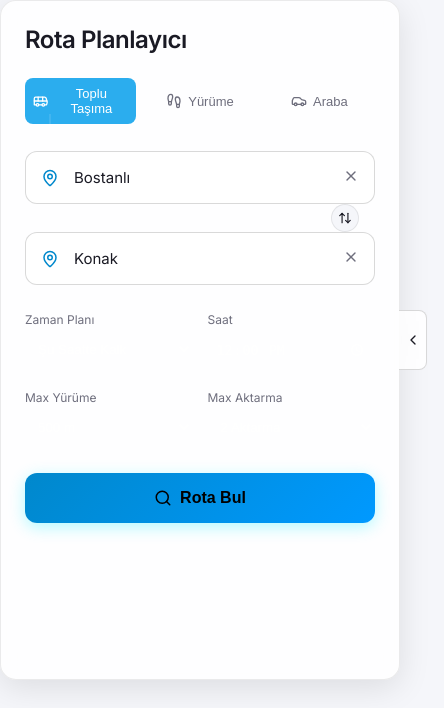
Test: TripPlanner Component › shows error message when API returns an error
The width and height of the screenshot is (444, 708).
Click the button "Rota Bul": (200, 498) [25, 473, 375, 523]
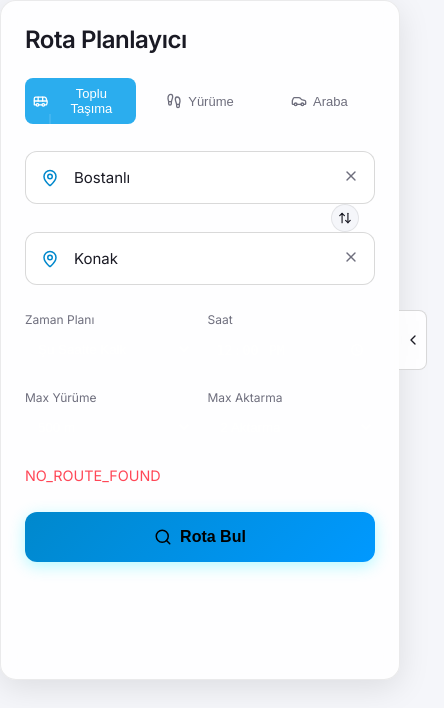
Now the text "NO_ROUTE_FOUND" is shown, box [25, 467, 161, 484]
